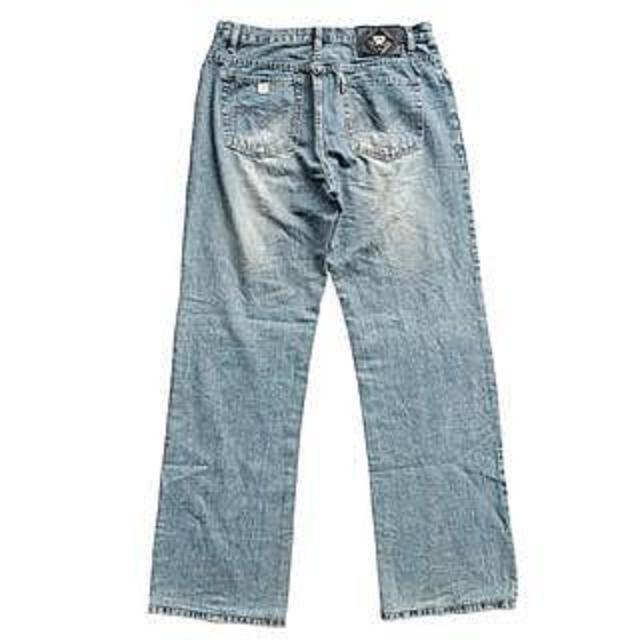TROUSER: (142, 16, 534, 634)
